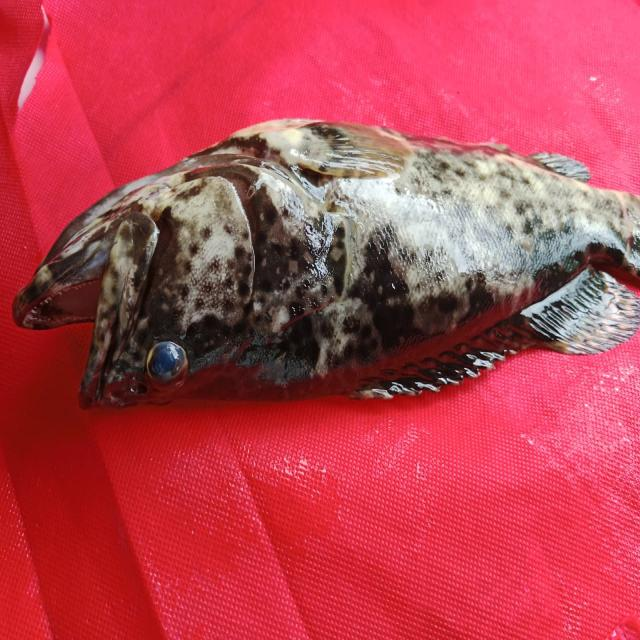ikan: (11, 115, 638, 411)
